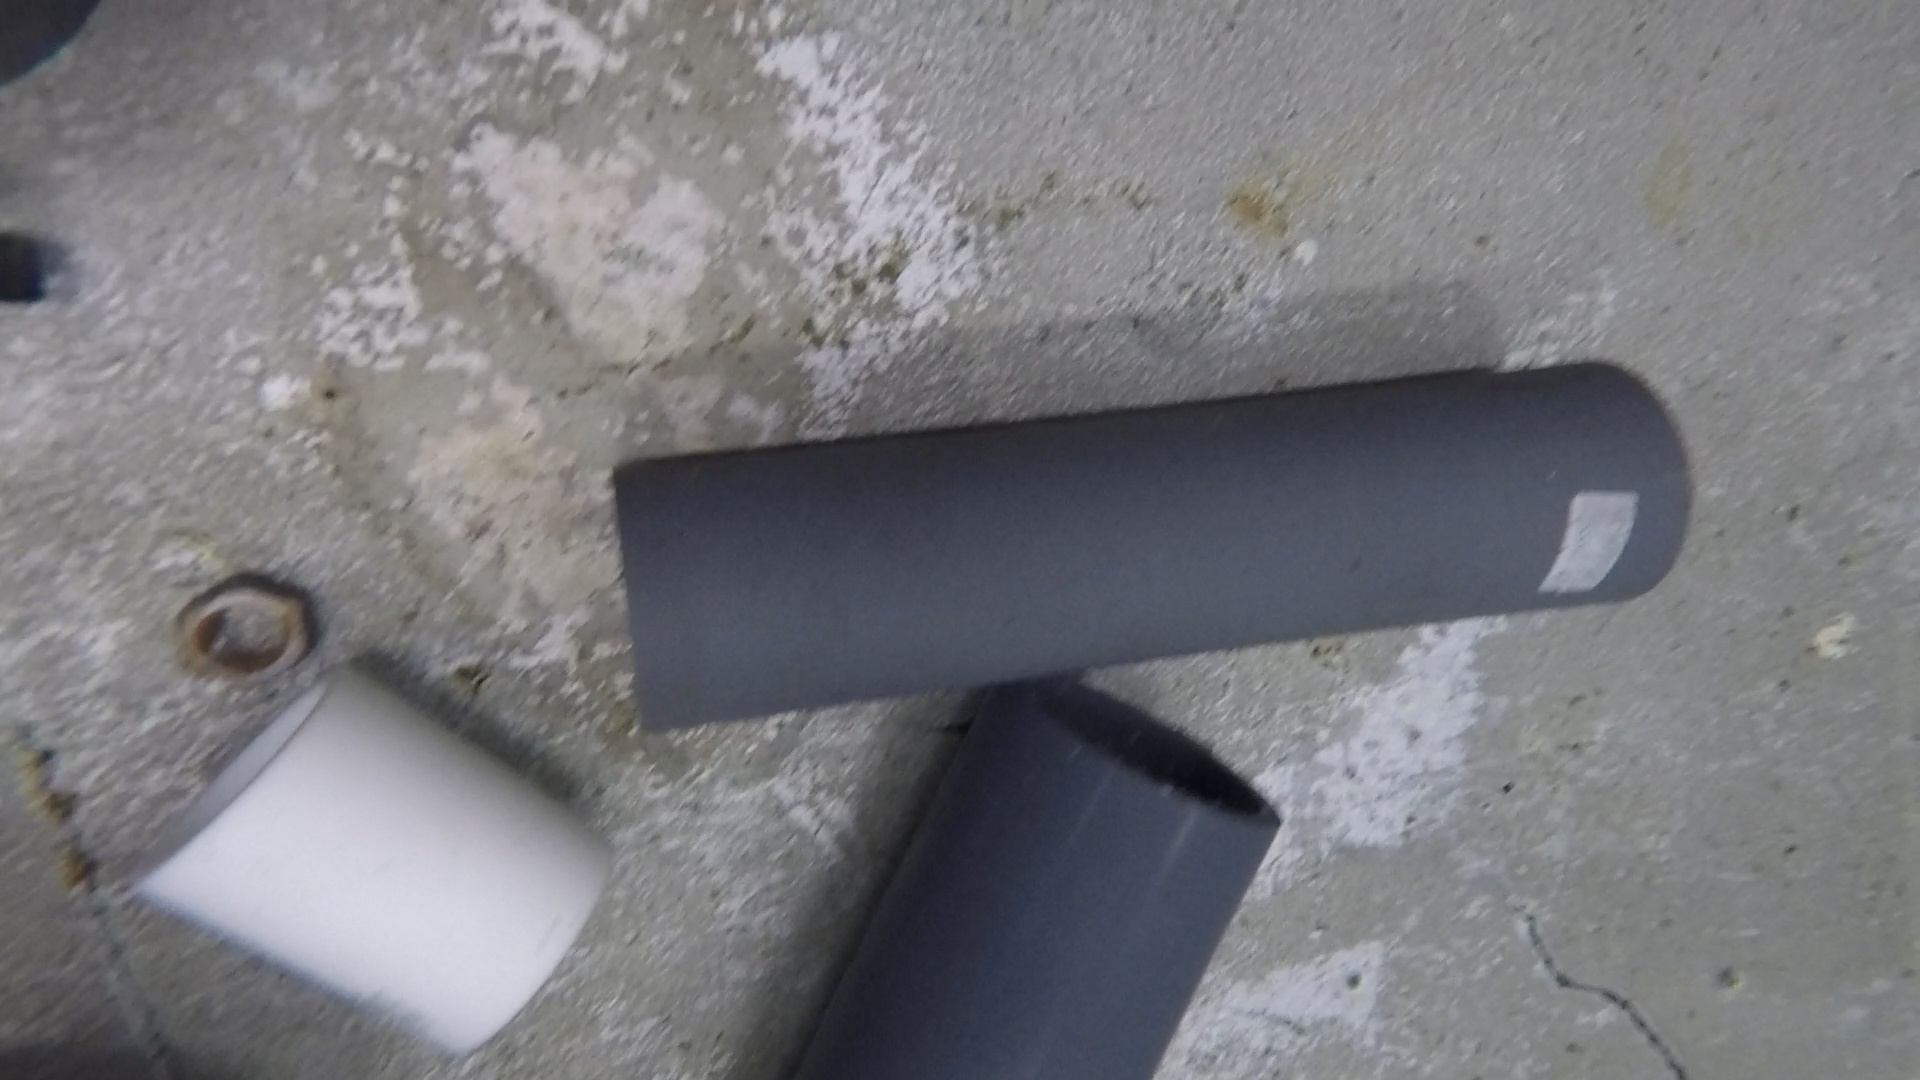nut: (167, 574, 320, 683)
pipe: (613, 359, 1688, 735), (782, 680, 1282, 1080), (136, 665, 611, 1058)
